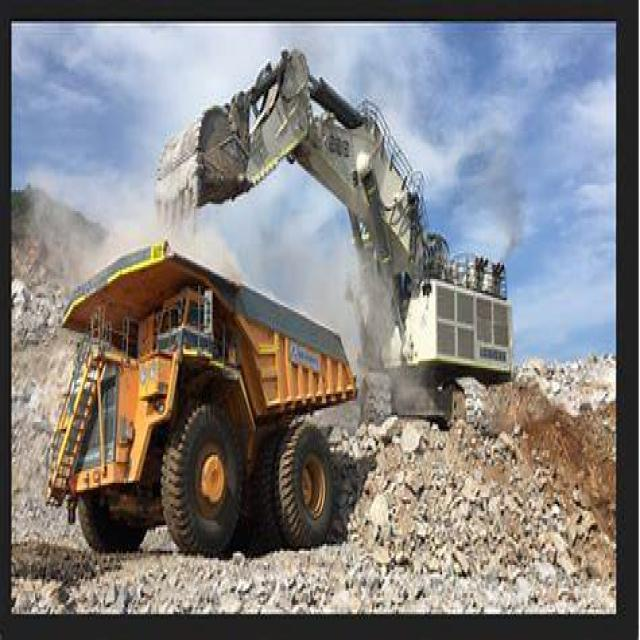dump_truck: (46, 234, 368, 572)
excavator: (166, 54, 527, 473)
